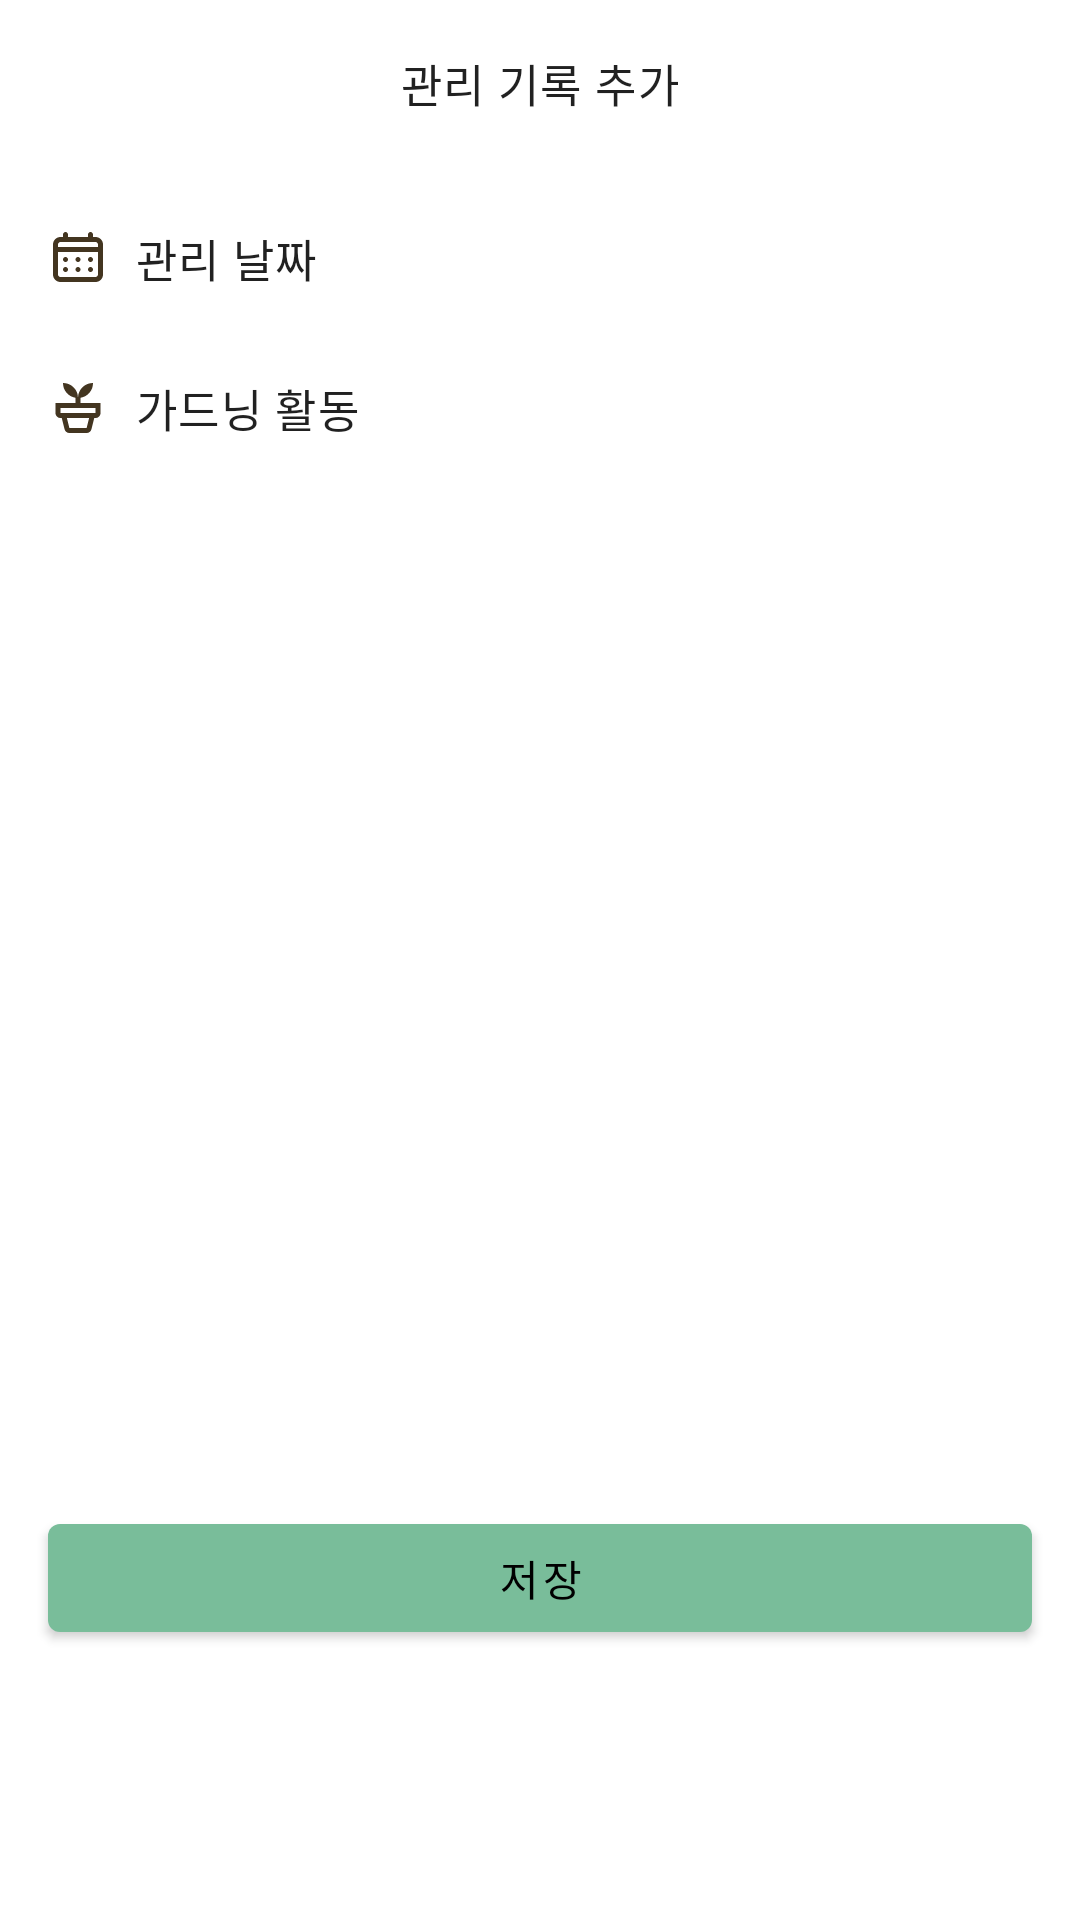

Icon click points for this 1080x1920 phone screenshot, format point (x, y):
calendar: point (78, 257)
